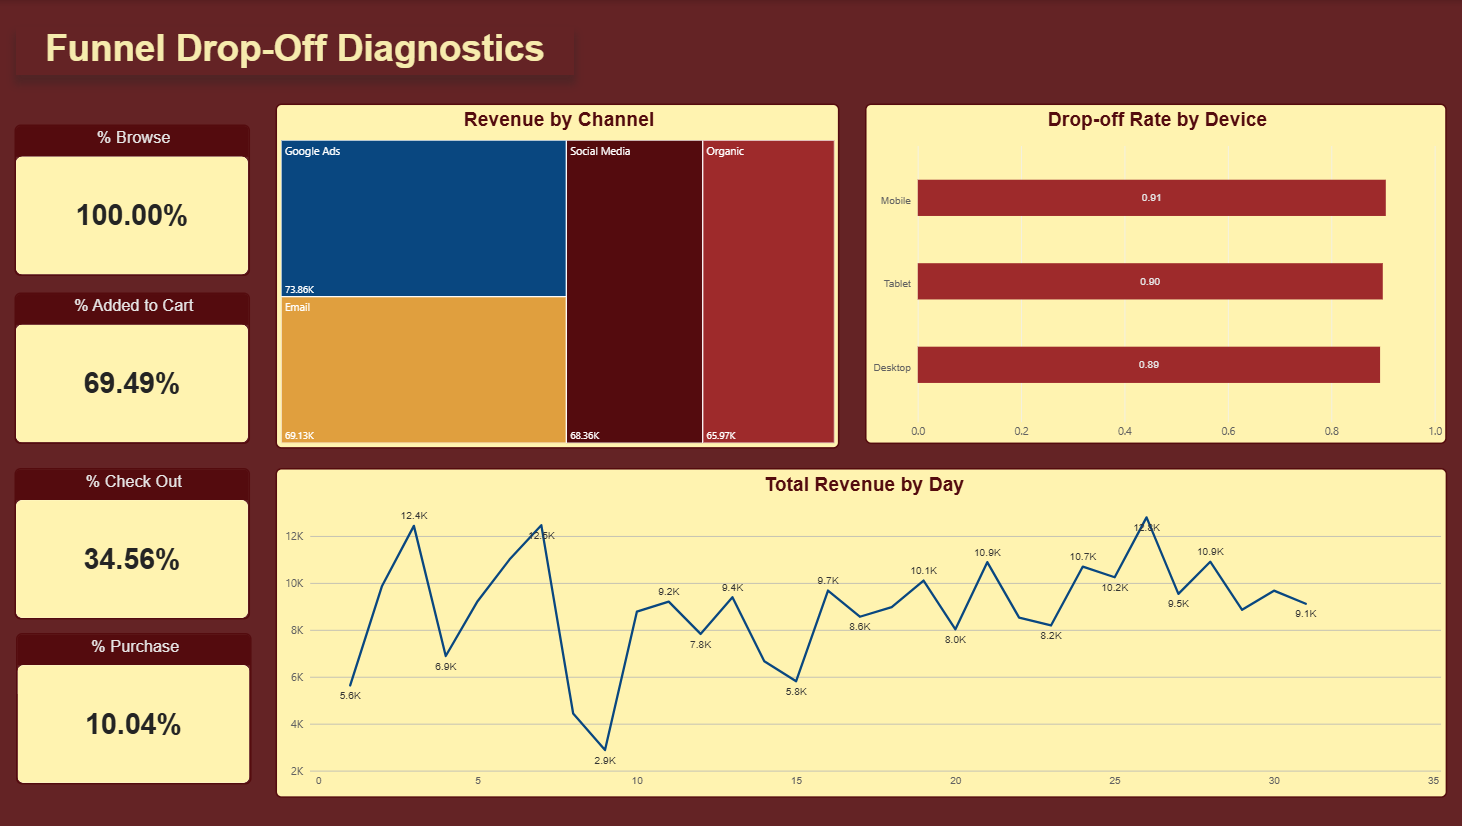

Layout of this report page (visuals, bound fields, positions):
{"tool":"powerbi","page":{"name":"Funnel Drop-off Diagnostics","canvas":[1920,1080],"ordinal":1},"visuals":[{"type":"textbox","box":[23.5,35.3,729.6,62.8],"z":0},{"type":"cardVisual","title":"% Browse","fields":{"Data":["Funnel_Analysis_Data.P_browse"]},"box":[21.6,162.8,307.9,198.1],"z":1000},{"type":"cardVisual","title":"% Check Out","fields":{"Data":["Funnel_Analysis_Data.P_checkout"]},"box":[21.6,611.9,307.9,198.1],"z":1001},{"type":"cardVisual","title":"% Purchase","fields":{"Data":["Funnel_Analysis_Data.P_purchase"]},"box":[23.5,827.7,307.9,198.1],"z":1002},{"type":"cardVisual","title":"% Added to Cart","fields":{"Data":["Funnel_Analysis_Data.P_AtC"]},"box":[21.6,382.5,307.9,198.1],"z":1003},{"type":"treemap","title":"Revenue by Channel","fields":{"Group":["Funnel_Analysis_Data.Channel"],"Values":["Sum(Funnel_Analysis_Data.Revenue)"]},"box":[362.8,135.3,737.4,451.1],"z":1004},{"type":"barChart","title":"Drop-off Rate by Device","fields":{"Category":["Funnel_Analysis_Data.Device"],"Y":["Funnel_Analysis_Data.Drop off Rate"]},"box":[1133.6,135.3,761,445.2],"z":1005},{"type":"lineChart","title":"Total Revenue by Day","fields":{"Category":["Funnel_Analysis_Data.Date.Variation.Date Hierarchy.Day"],"Y":["Sum(Funnel_Analysis_Data.Revenue)"]},"box":[362.8,611.9,1531.8,431.5],"z":1006}]}

Visuals, with their boxes in screenshot pixels (x1, y1, x2, y2), scaled from the page's 1920x1080 canvas onto the 1462x826 screenshot:
textbox: Rect(18, 27, 573, 75)
"% Browse" cardVisual: Rect(16, 125, 251, 276)
"% Check Out" cardVisual: Rect(16, 468, 251, 620)
"% Purchase" cardVisual: Rect(18, 633, 252, 785)
"% Added to Cart" cardVisual: Rect(16, 293, 251, 444)
"Revenue by Channel" treemap: Rect(276, 103, 838, 448)
"Drop-off Rate by Device" barChart: Rect(863, 103, 1443, 444)
"Total Revenue by Day" lineChart: Rect(276, 468, 1443, 798)
